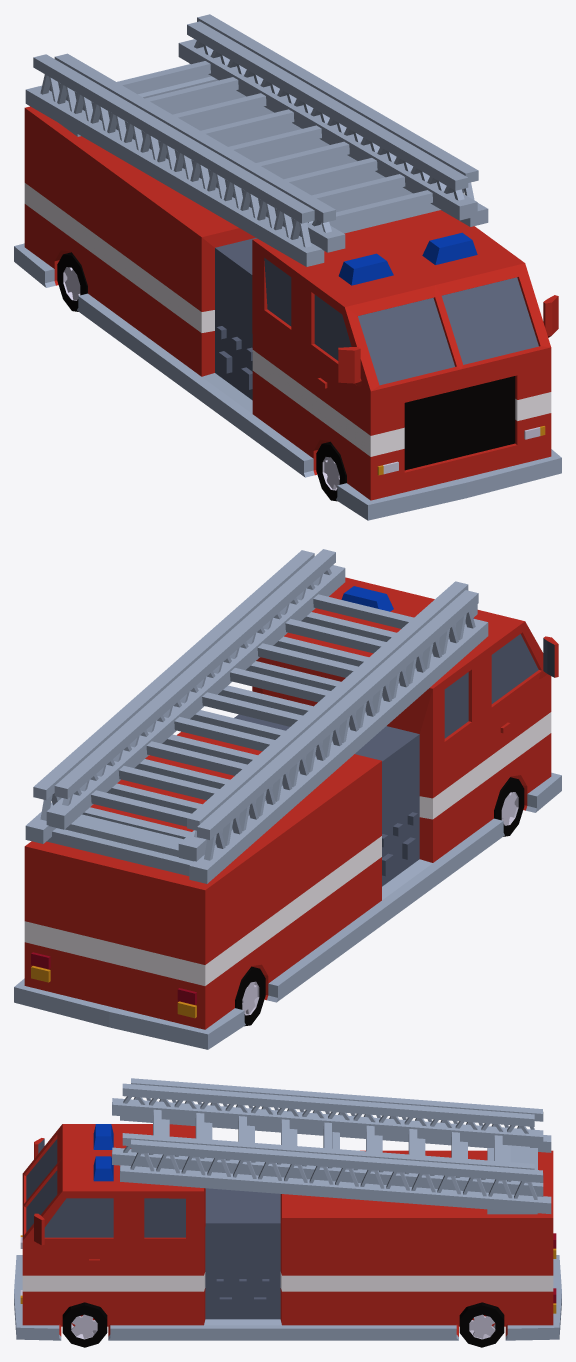
The model's file is mod-bombeiros.gltf.
3 views of the same model, one above another, from view 1: azimuth 30°, elevation 25°; view 2: azimuth 150°, elevation 25°; view 3: azimuth 270°, elevation 25° (orthographic). The views are drawn at different scales.
Visible parts, largest first — view 1: Firetruck, Firetruck wheel front left; view 2: Firetruck, Firetruck wheel front left; view 3: Firetruck, Firetruck wheel front left.
Part boxes in pixels (left/top/right/bottom): Firetruck: left=14, top=14, right=561, bottom=520; Firetruck wheel front left: left=57, top=252, right=346, bottom=501; Firetruck: left=14, top=549, right=561, bottom=1049; Firetruck wheel front left: left=235, top=777, right=524, bottom=1026; Firetruck: left=14, top=1078, right=561, bottom=1340; Firetruck wheel front left: left=62, top=1302, right=504, bottom=1347.
Size of the model in its own units: 2.83 by 3.26 by 7.95.
